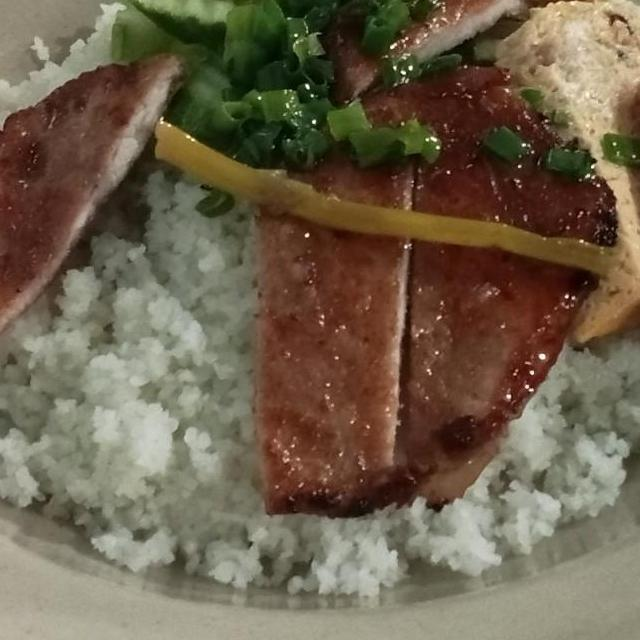cha: (481, 0, 640, 348)
com: (0, 154, 303, 604), (281, 309, 640, 611), (0, 0, 138, 147)
com suon cha: (0, 0, 640, 640)
dua chua: (138, 114, 628, 282)
suon: (242, 52, 618, 528), (0, 46, 194, 362), (183, 0, 615, 115)
